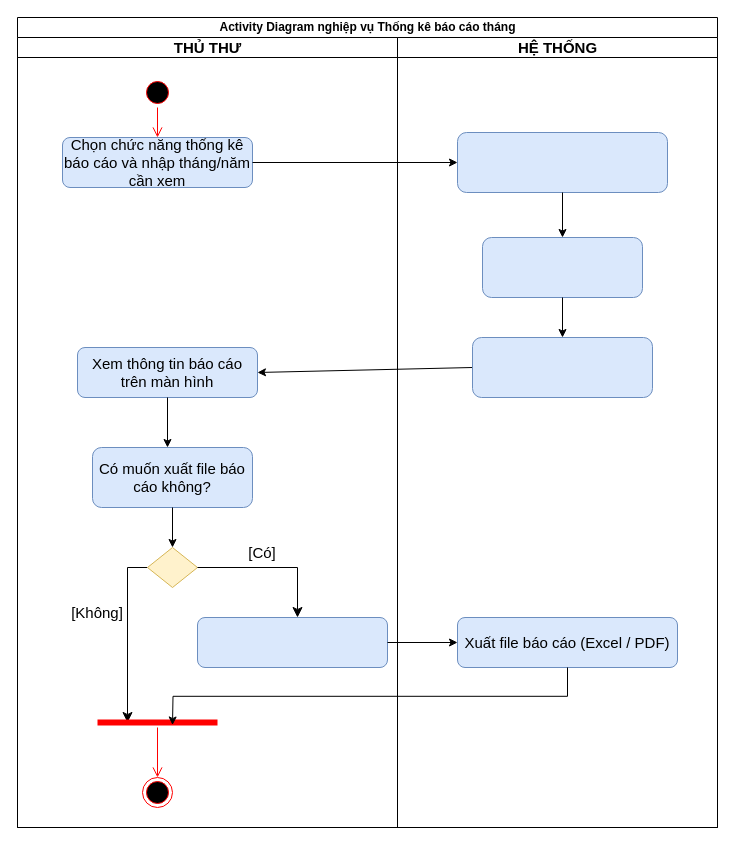
The diagram is 735 pixels wide and 845 high, and some of its shapes have lost their labels. The centre of each missing label's shape, as x and y in pixels:
Chọn chức năng "Xuất file": point 292,642
Hiển thị giao diện bảng báo cáo thống kê: point 562,367
Truy vấn dữ liệu từ các bảng PhieuMuon, ChiTietPhieuMuon và PhieuPhat: point 562,162
Tổng hợp số liệu (sách đang mượn, quá hạn, mất/hư hỏng): point 562,267
